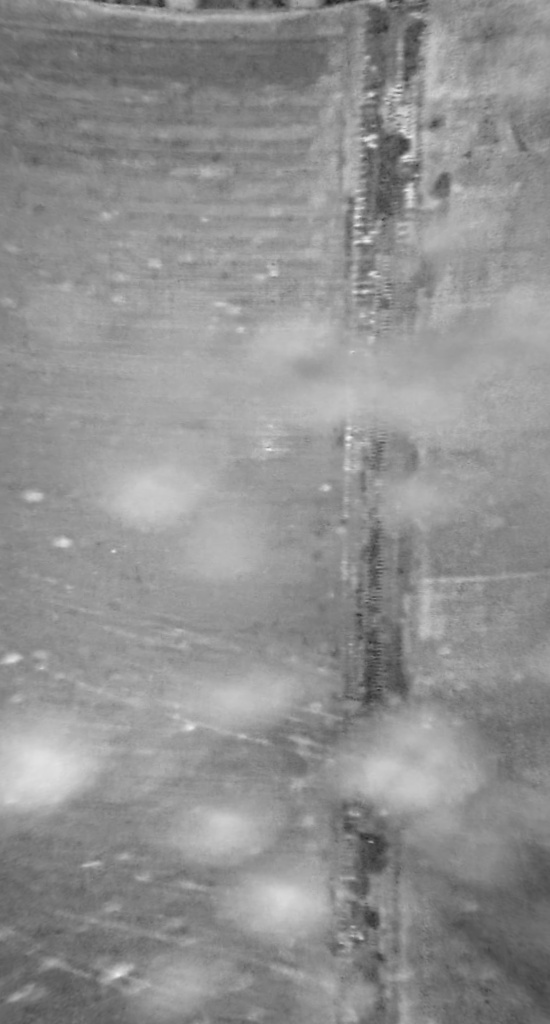splice: (335, 1, 432, 1022)
